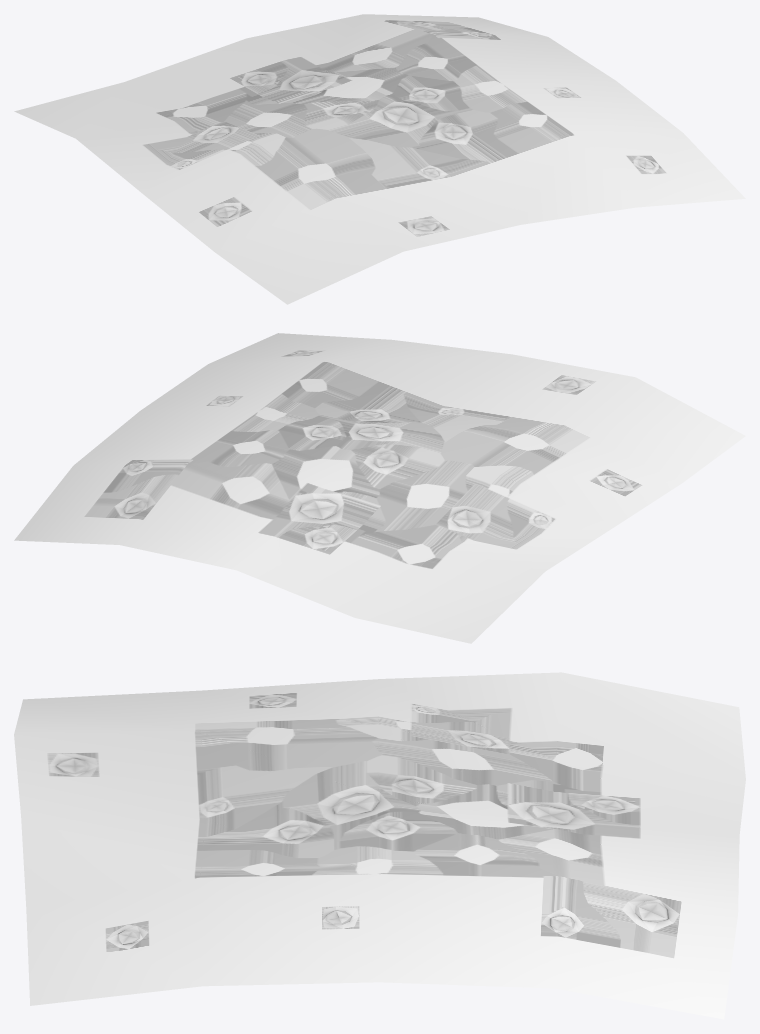
Rendered from SM_Plant_FlowerPatch_01.fbx.
3 views of the same model, one above another, from view 1: azimuth 30°, elevation 25°; view 2: azimuth 150°, elevation 25°; view 3: azimuth 270°, elevation 25° (orthographic). The views are drawn at different scales.
Parts seen in each view (by area): view 1: SM_Plant_FlowerPatch_01; view 2: SM_Plant_FlowerPatch_01; view 3: SM_Plant_FlowerPatch_01.
Boxes of the visible parts, x1,y1,x2,y2 form: SM_Plant_FlowerPatch_01: (14,14,745,304); SM_Plant_FlowerPatch_01: (14,333,745,643); SM_Plant_FlowerPatch_01: (14,672,745,1019).
Bounding box in the file's own units: 115 × 13.87 × 117.
